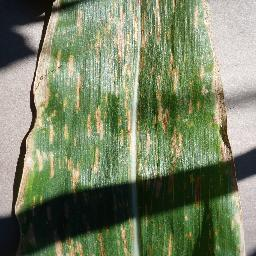Gray_Leaf_Spot: (9, 0, 249, 256)
